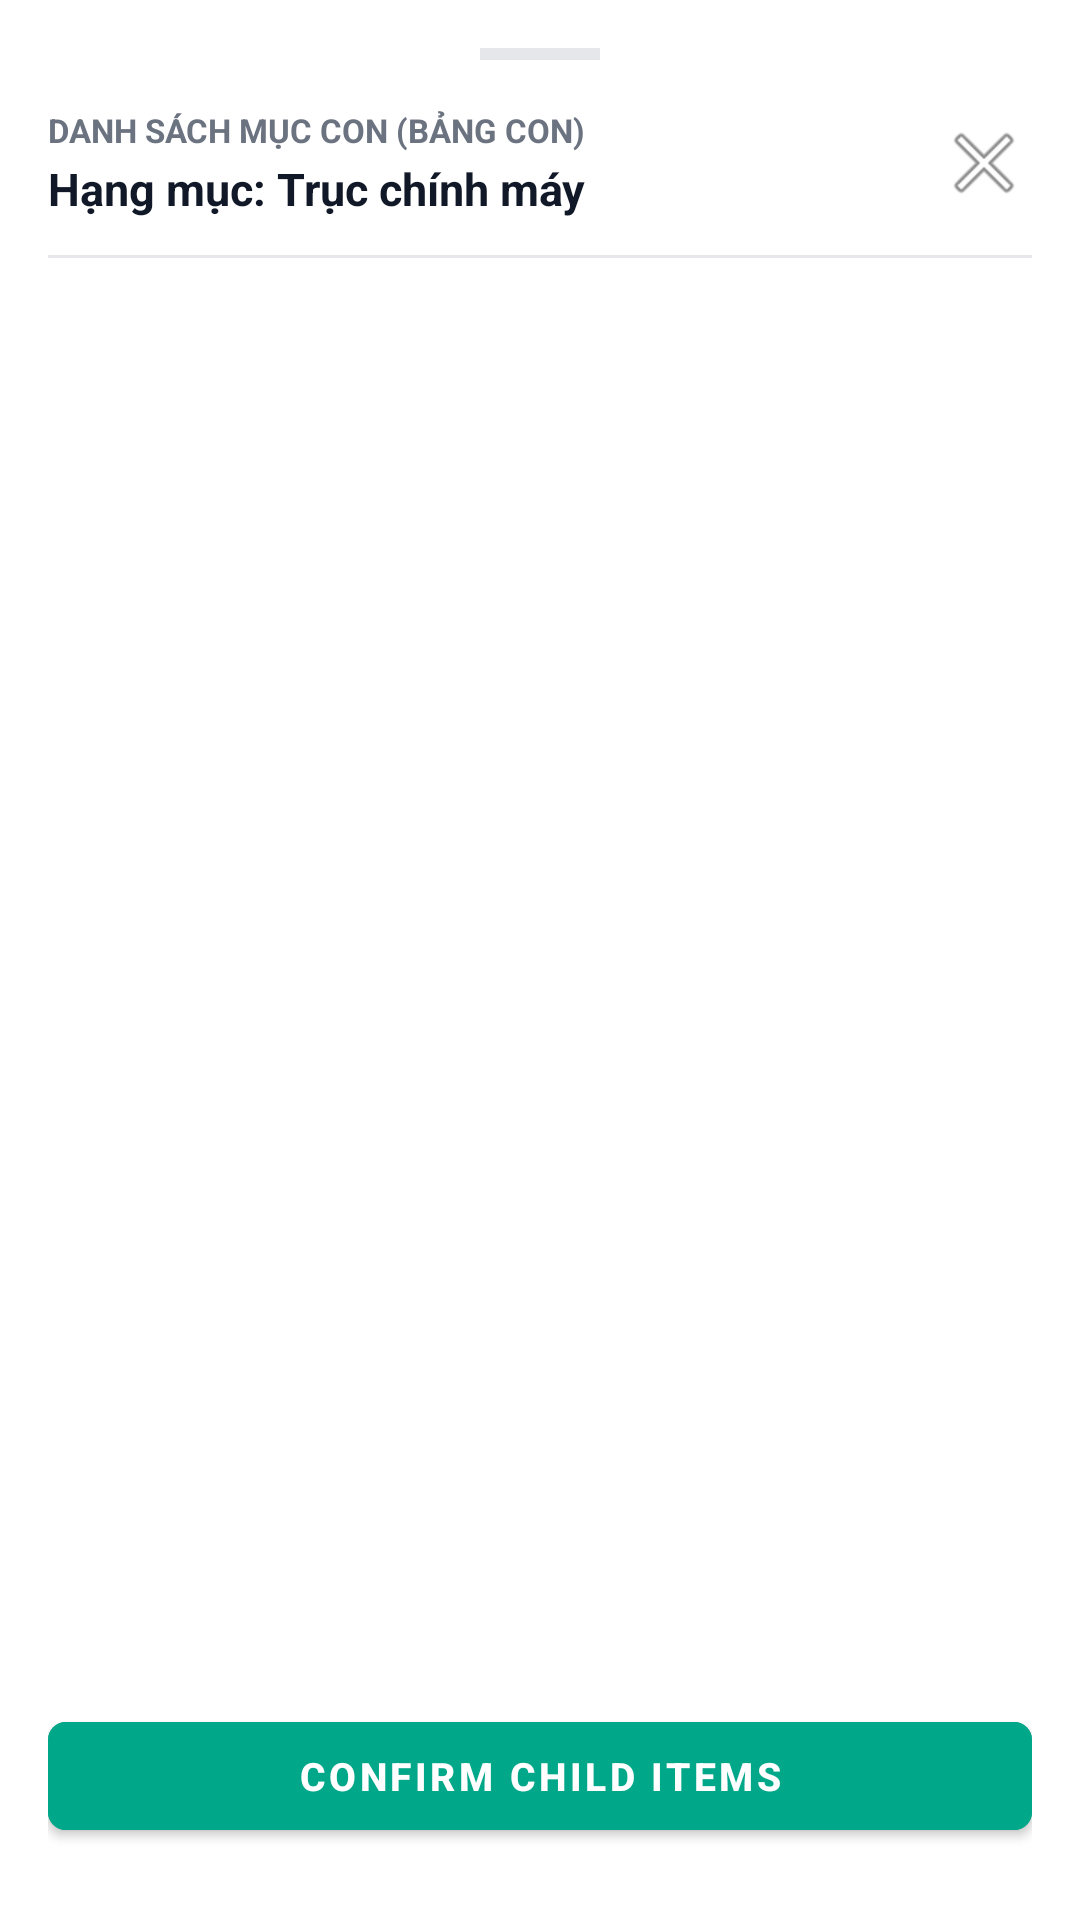

Icons on this 1080*1920 Android screen, each with its box as (x1, y1, x2, y2):
close clear cancel: (954, 133, 1014, 193)
